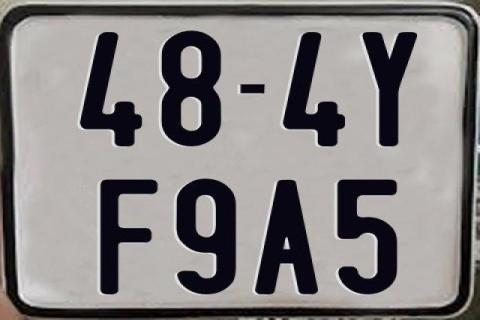0: (281, 30, 349, 148), (176, 178, 242, 298), (159, 30, 225, 146), (337, 178, 399, 298), (78, 30, 140, 148)
A: (254, 179, 324, 295)
F: (99, 177, 157, 297)
Y: (362, 30, 417, 144)
